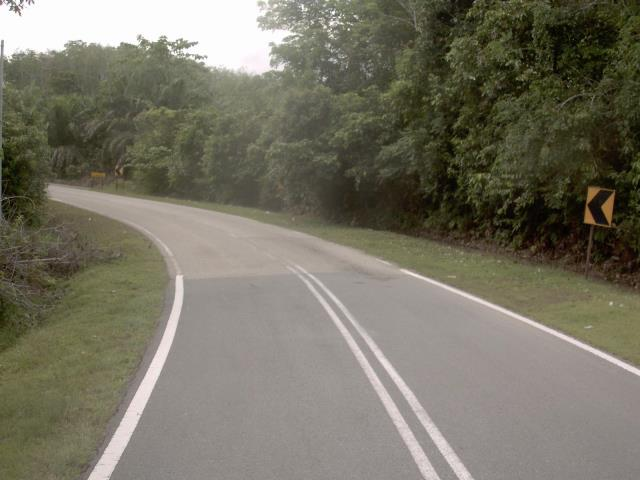traffic_sign: (577, 178, 622, 234)
